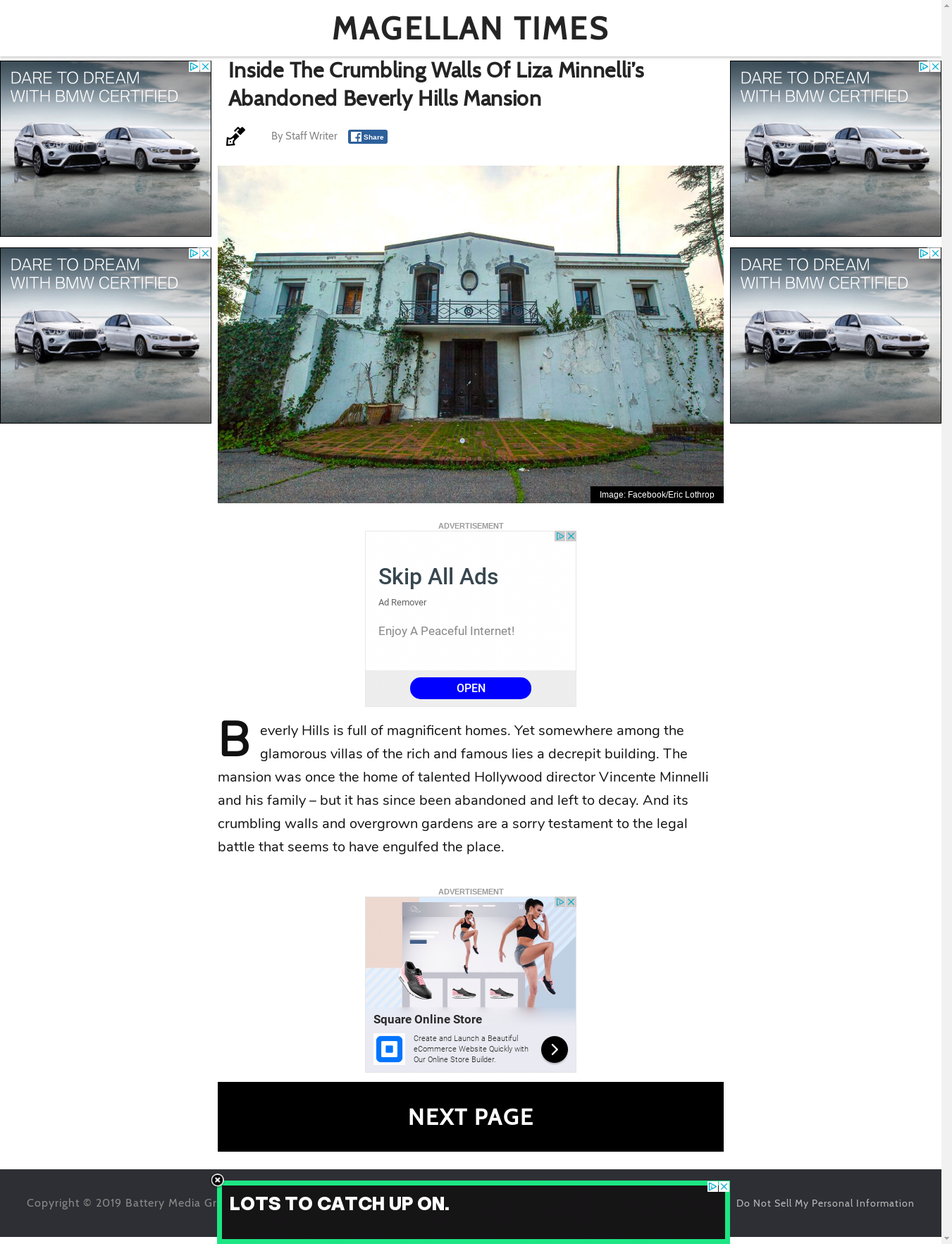fake_button: (342, 659, 587, 705)
